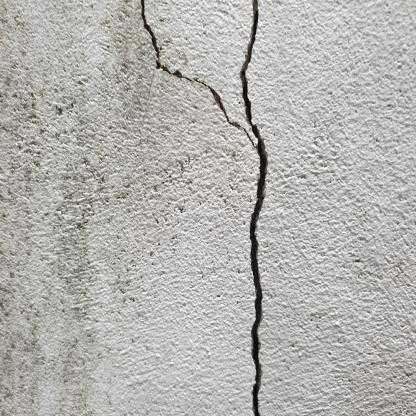crack: (138, 1, 270, 414)
